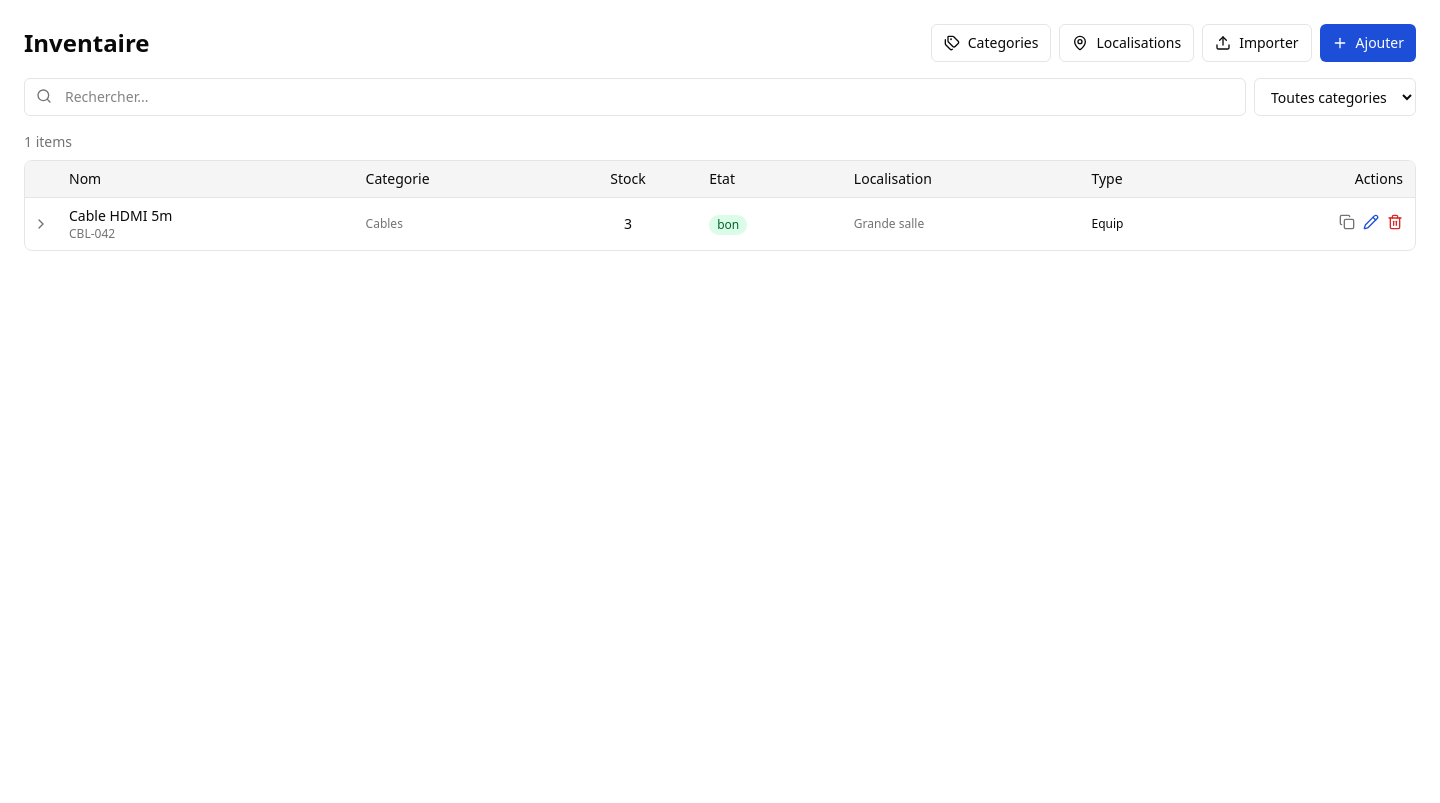
duplicating an item › does not carry the copy over when the panel is closed from the toolbar
Check: the text "Cable HDMI 5m" is shown, box [69,206,172,225]
What coordinates should you click on to do the following:
click the button named "Dupliquer Cable HDMI 5m"
I would click on:
 (1347, 222)
Its box is [1339,214,1355,230].
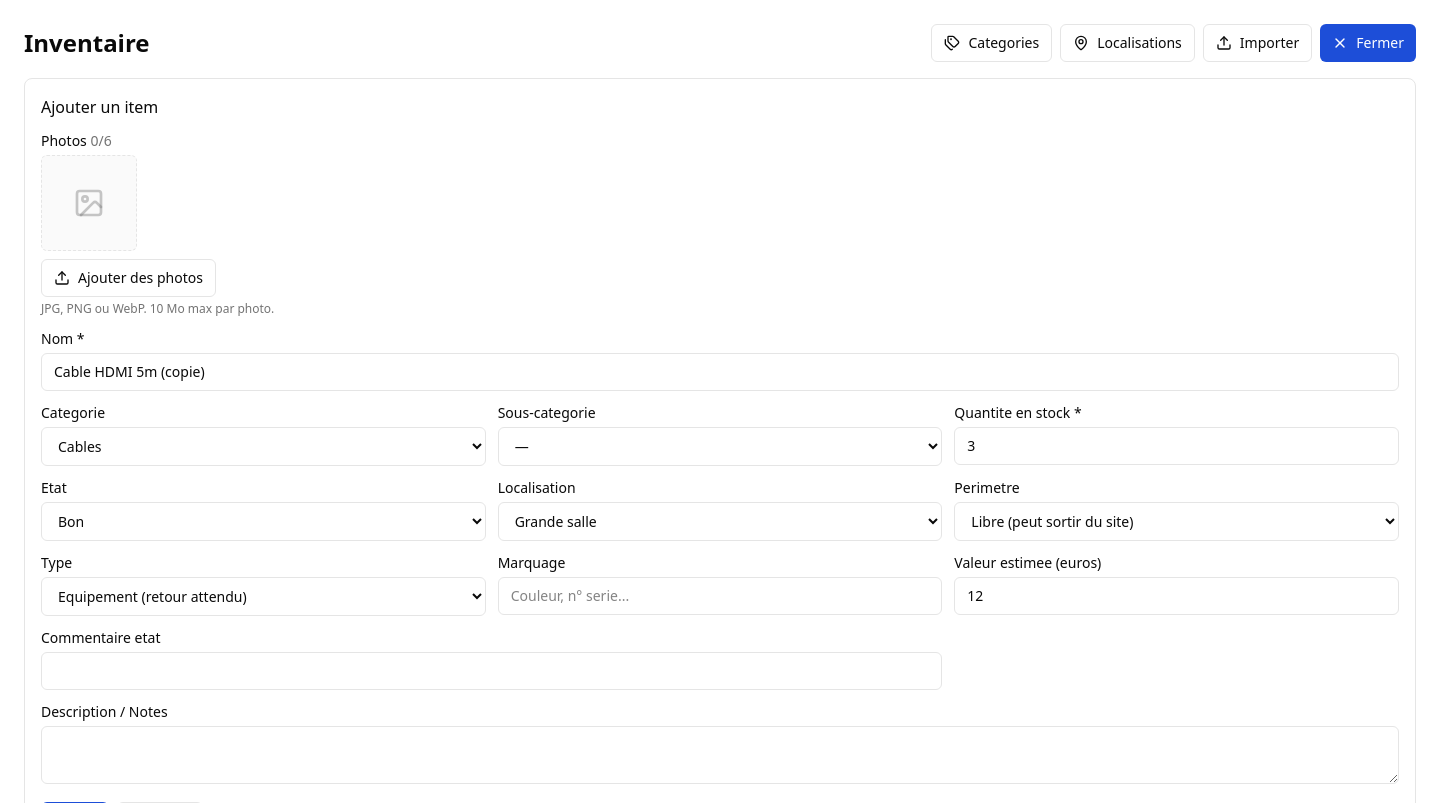
What coordinates should you click on to do the following:
click the button "Fermer"
I would click on:
 (1368, 43)
Its box is [1320,24,1416,62].
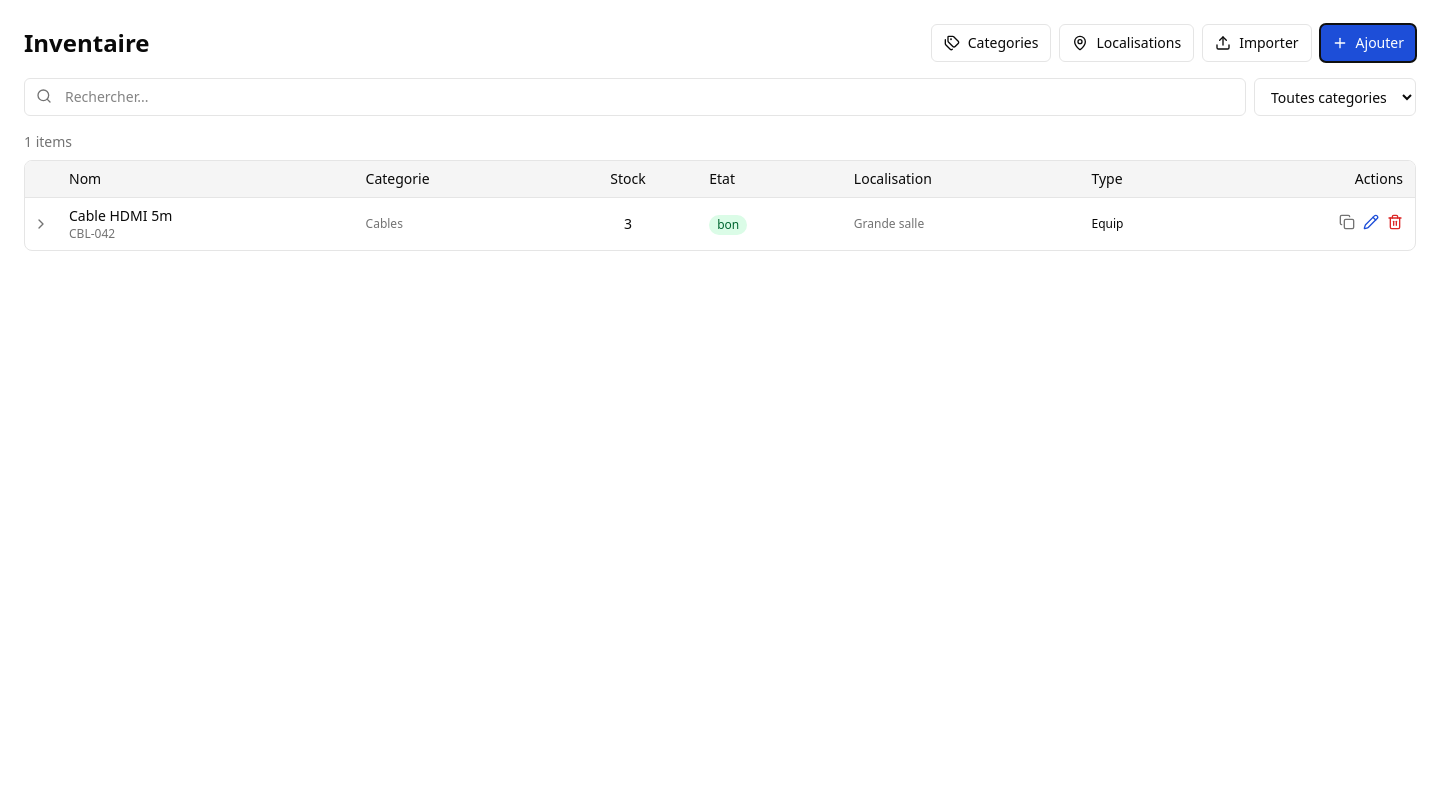
What coordinates should you click on to do the following:
click the button "Ajouter"
I would click on:
 (1368, 43)
Its box is [1320,24,1416,62].
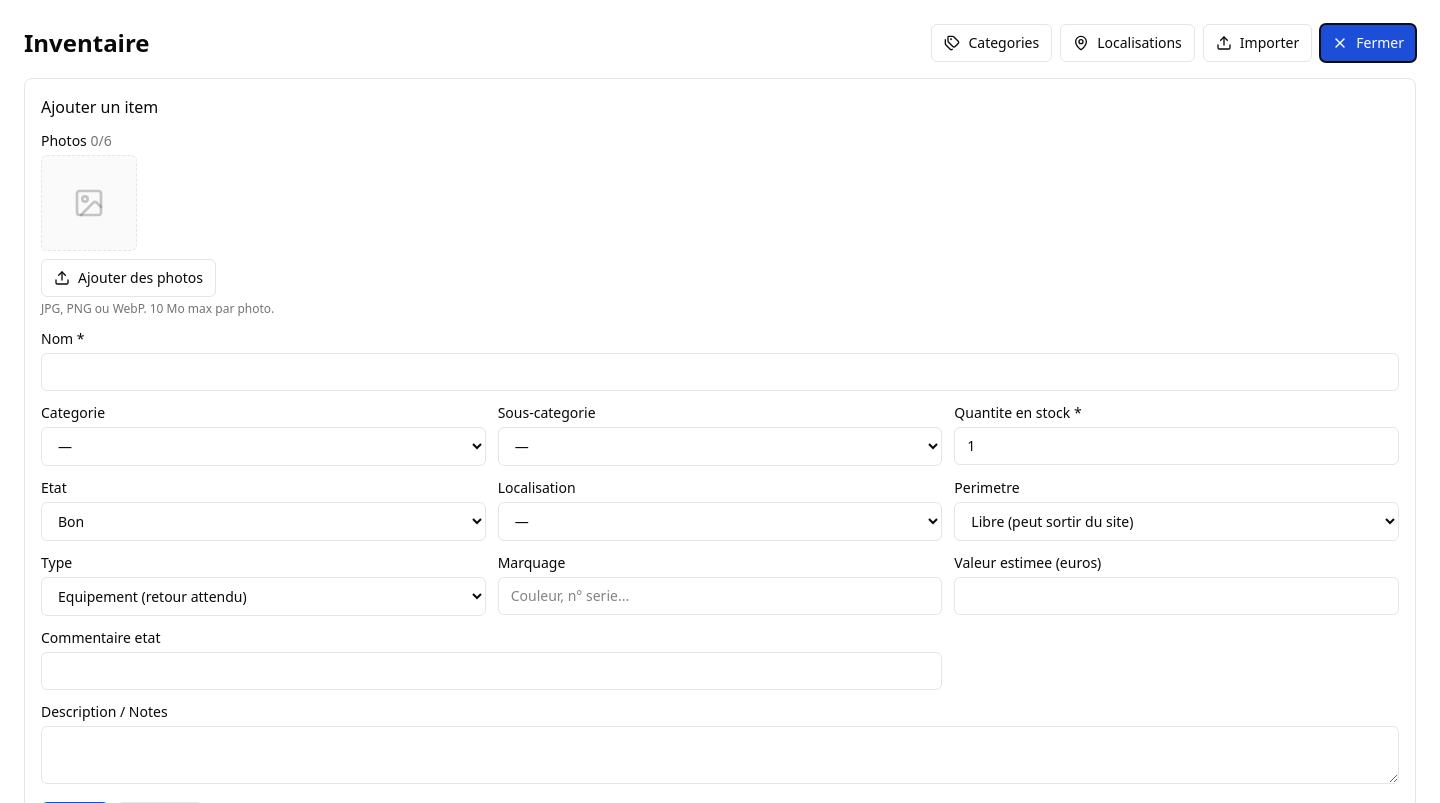
Check: the field showing "Cable HDMI 5m (copie)" is not shown
Check: the heading "Ajouter un item" is shown, box [41,96,158,118]
